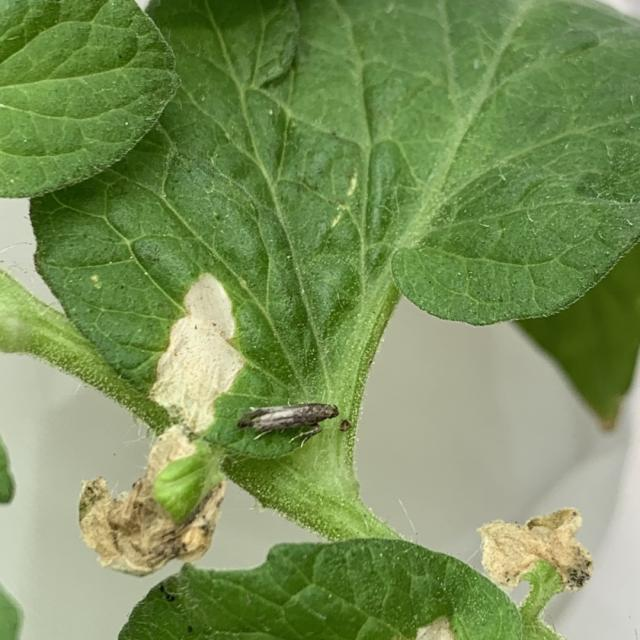Adult: (238, 403, 339, 433)
